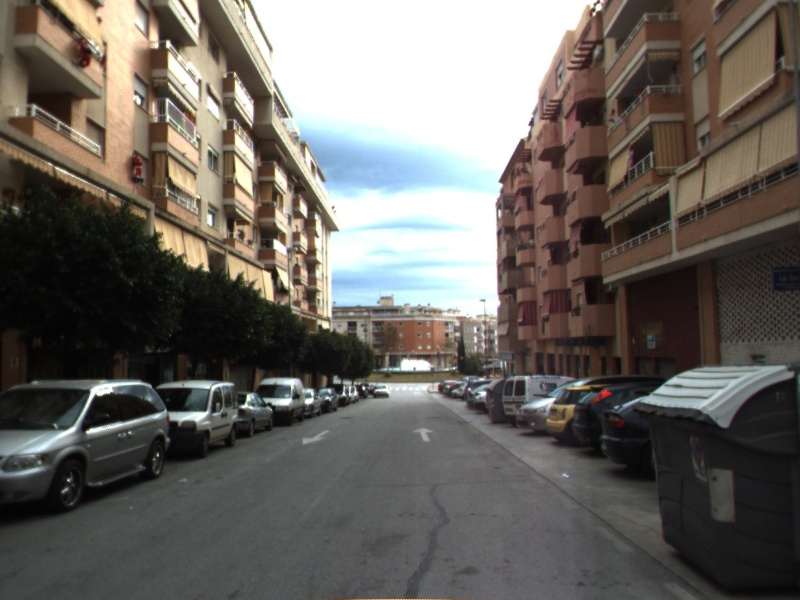STRAIGHT: (411, 425, 437, 444)
